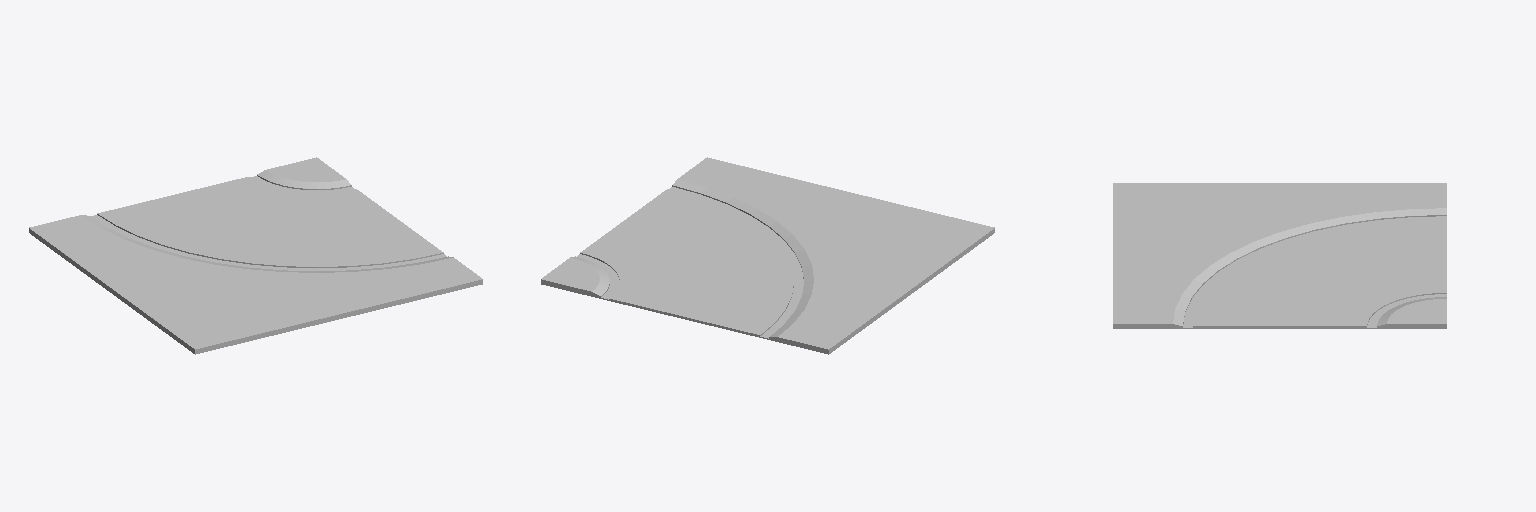
Rendered from roadBend.obj.
The picture shows the model from 3 angles: view 1: azimuth 30°, elevation 25°; view 2: azimuth 150°, elevation 25°; view 3: azimuth 270°, elevation 25°; orthographic projection.
Parts seen in each view (by area): view 1: roadBend; view 2: roadBend; view 3: roadBend.
Boxes of the visible parts, x1=… form: roadBend: x1=29, y1=157, x2=482, y2=354; roadBend: x1=541, y1=157, x2=994, y2=354; roadBend: x1=1113, y1=183, x2=1446, y2=328.
Bounding box in the file's own units: 3 × 0.05 × 3.